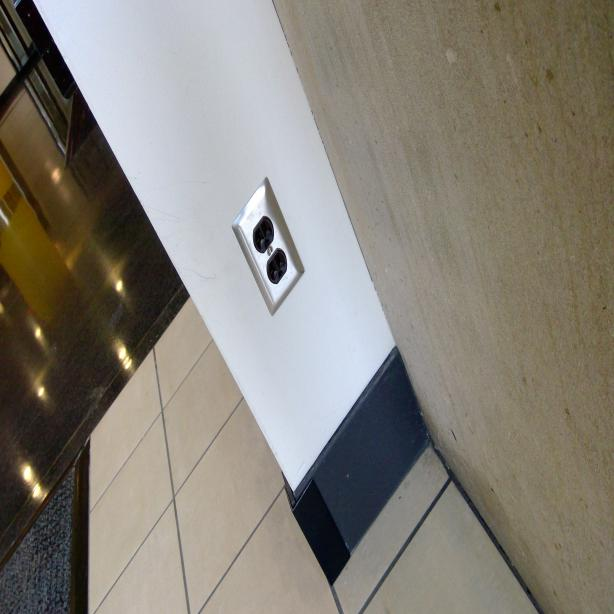typeb: (253, 217, 274, 247), (267, 252, 285, 280)
